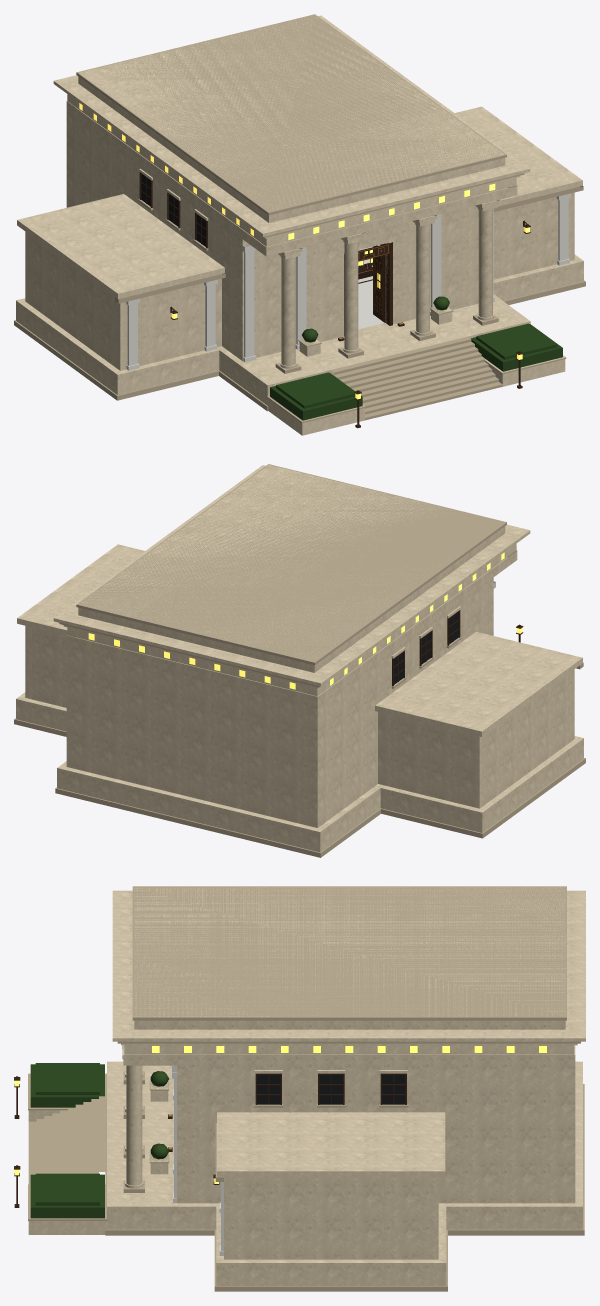
File: agora.glb
3 views of the same model, one above another, from view 1: azimuth 30°, elevation 25°; view 2: azimuth 150°, elevation 25°; view 3: azimuth 270°, elevation 25° (orthographic). The views are drawn at different scales.
Visible parts, largest first — view 1: agora; view 2: agora; view 3: agora.
Boxes of the visible parts, left/top/right/bottom form: agora: left=14, top=14, right=585, bottom=435; agora: left=14, top=464, right=585, bottom=857; agora: left=14, top=886, right=585, bottom=1291.
Bounding box in the file's own units: 31.36 × 11.9 × 29.31.
Materials: 15 (2 with a texture image).
